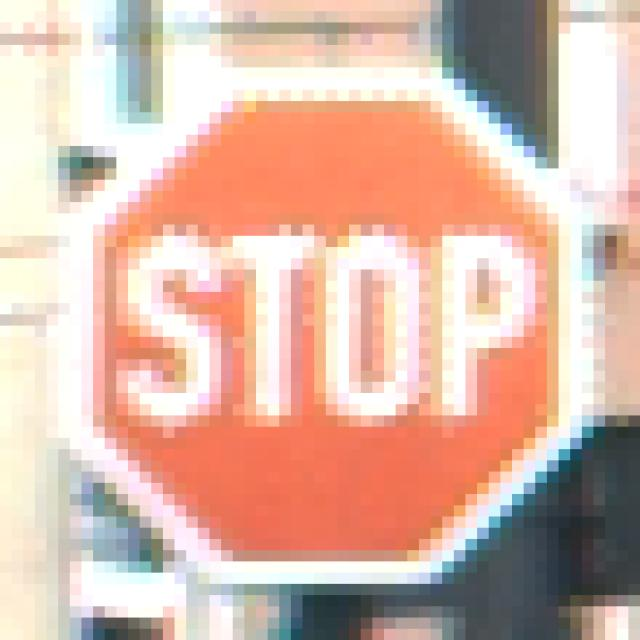STOP: (71, 68, 583, 585)
